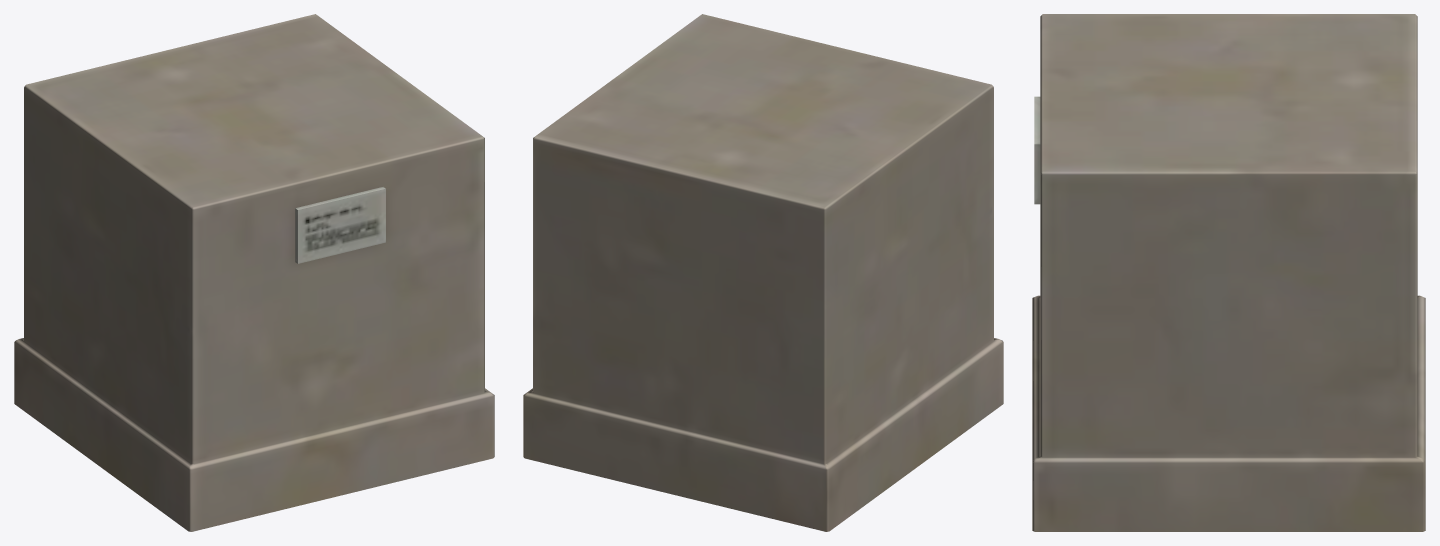
The picture shows the model from 3 angles, left to right: view 1: azimuth 30°, elevation 25°; view 2: azimuth 150°, elevation 25°; view 3: azimuth 270°, elevation 25°; orthographic projection. The views are drawn at different scales.
Size of the model in its own units: 10 by 10 by 10.
1 material, 1 textured.
